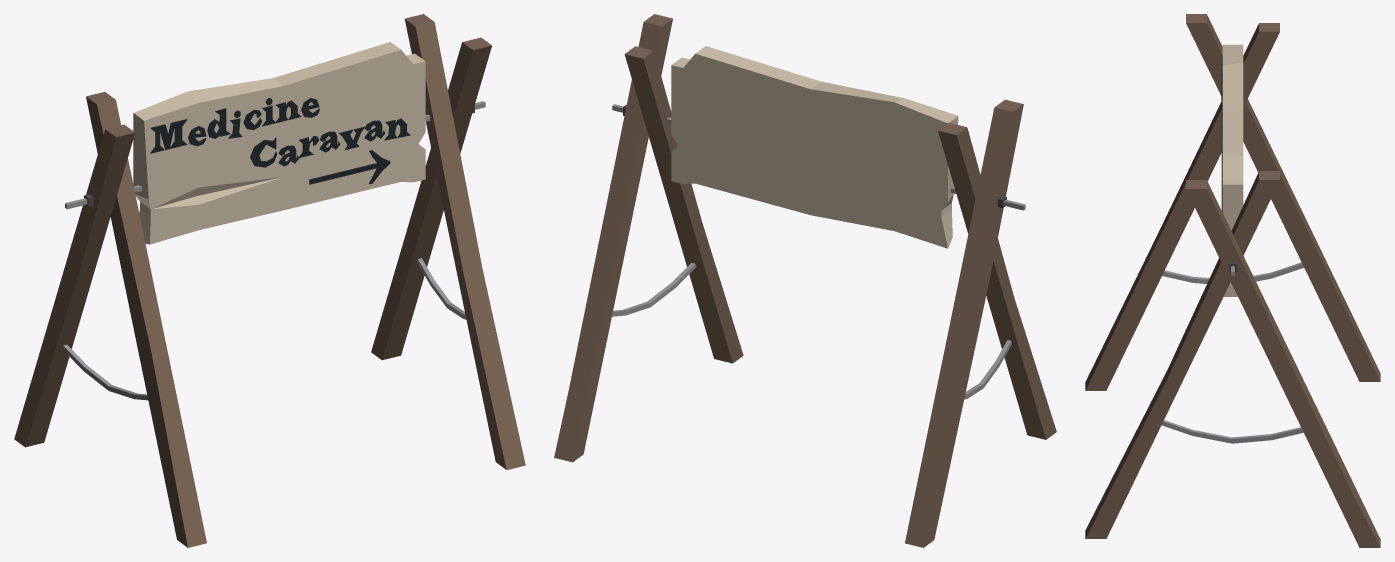
The model's file is Sign_Medicine_Caravan.fbx.
3 renders of one model, left to right at view 1: azimuth 30°, elevation 25°; view 2: azimuth 150°, elevation 25°; view 3: azimuth 270°, elevation 25°, orthographic. The views are drawn at different scales.
Parts seen in each view (by area): view 1: Sign_Medicine_Caravan; view 2: Sign_Medicine_Caravan; view 3: Sign_Medicine_Caravan.
Boxes of the visible parts, left/top/right/bottom form: Sign_Medicine_Caravan: left=14, top=14, right=525, bottom=547; Sign_Medicine_Caravan: left=554, top=14, right=1056, bottom=547; Sign_Medicine_Caravan: left=1085, top=14, right=1380, bottom=547.
Bounding box in the file's own units: 174 × 111 × 150.
